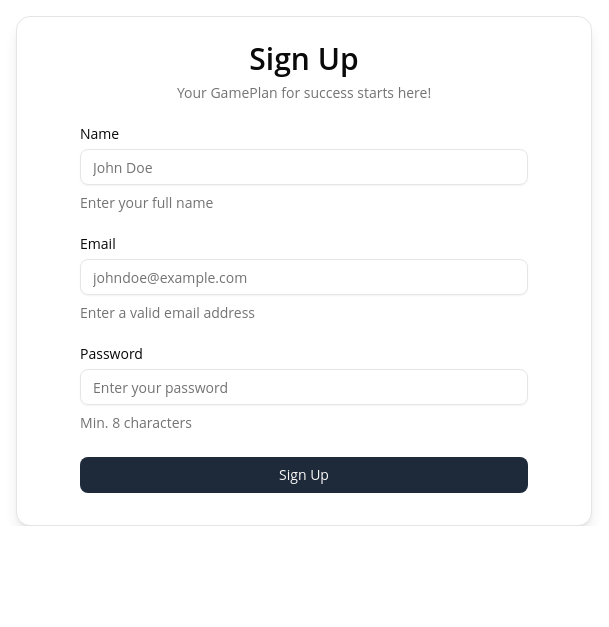
Test: Signup › shows validation errors for empty fields
Click the button "Sign Up".
click(304, 475)  # box x1=80 y1=457 x2=528 y2=493
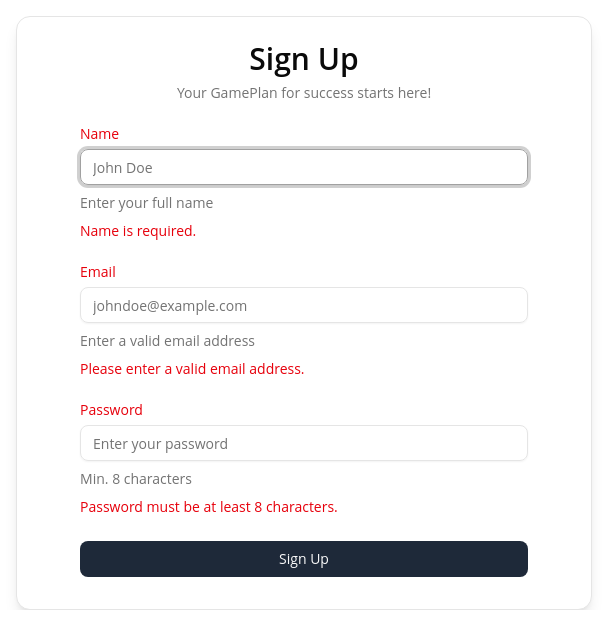
Now the text "Name is required." is shown, box x1=80 y1=221 x2=196 y2=240
Now the text "Please enter a valid email address." is shown, box x1=80 y1=359 x2=305 y2=378
Now the text "Password must be at least 8 characters." is shown, box x1=80 y1=497 x2=338 y2=516
